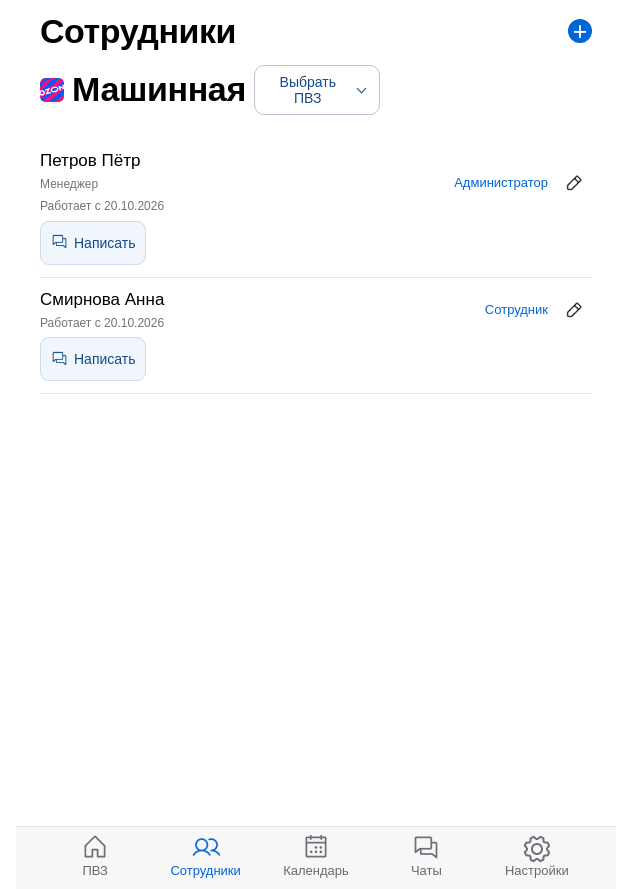
Scenario: редактирование из /employees?workplace=11 меняет только роль и должность
Click the link named "Редактировать сотрудника Петров Пётр" at (574, 183), box 564,173 -> 584,193
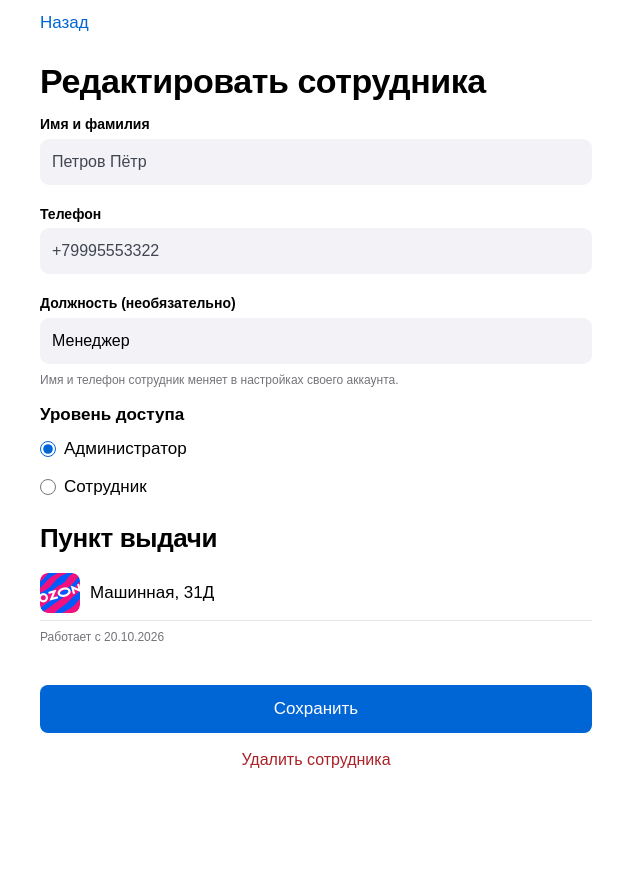
Expected: the field named "Имя и фамилия" reads "Петров Пётр", 52,153 -> 147,170
Expected: the text "Работает с 20.10.2026" is shown, 40,630 -> 164,644
Clear the field labelled "Должность (необязательно)" at (316, 341), box 40,318 -> 592,364
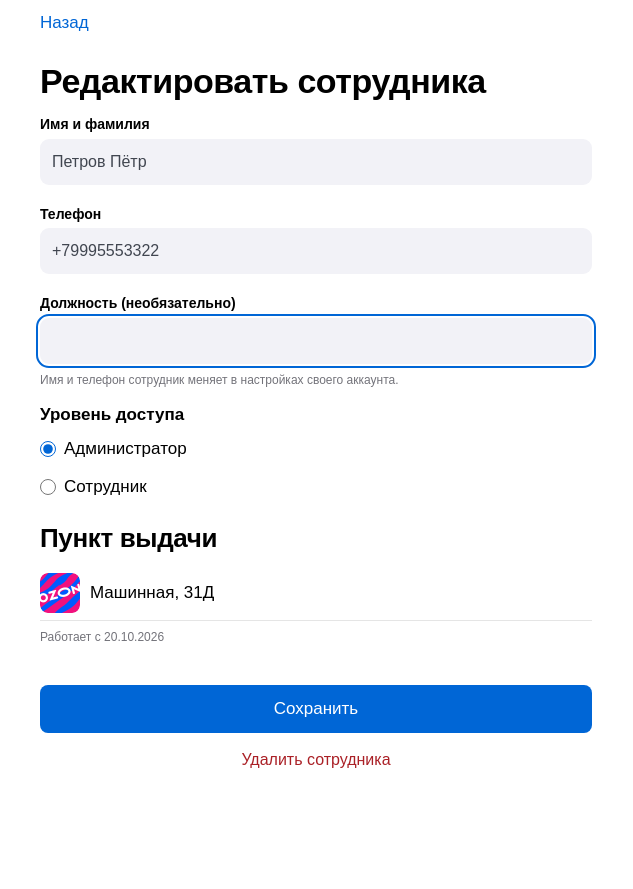
Click the radio button labelled "Сотрудник" at (48, 487), box 40,479 -> 56,495
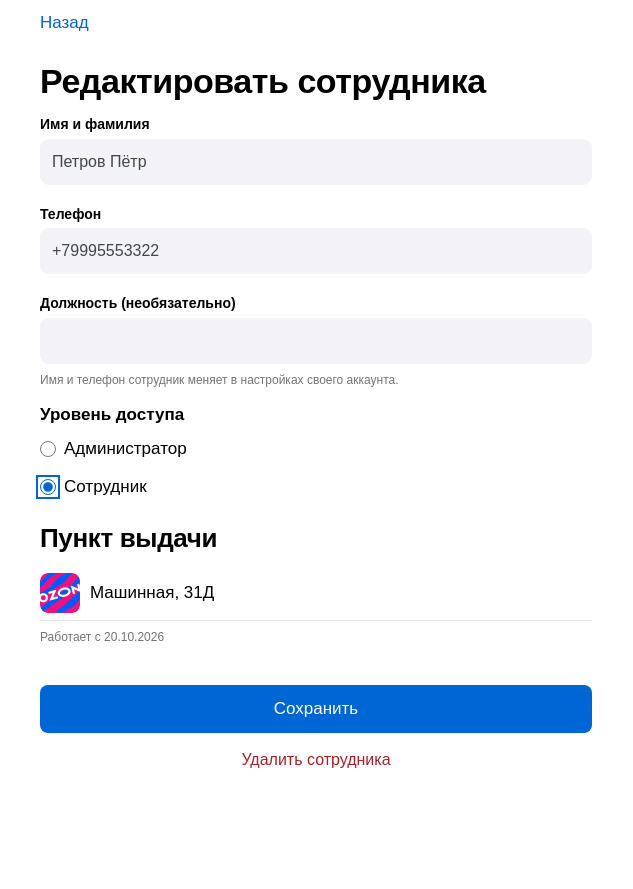
Click the button "Сохранить" at (316, 710), box 40,686 -> 592,734
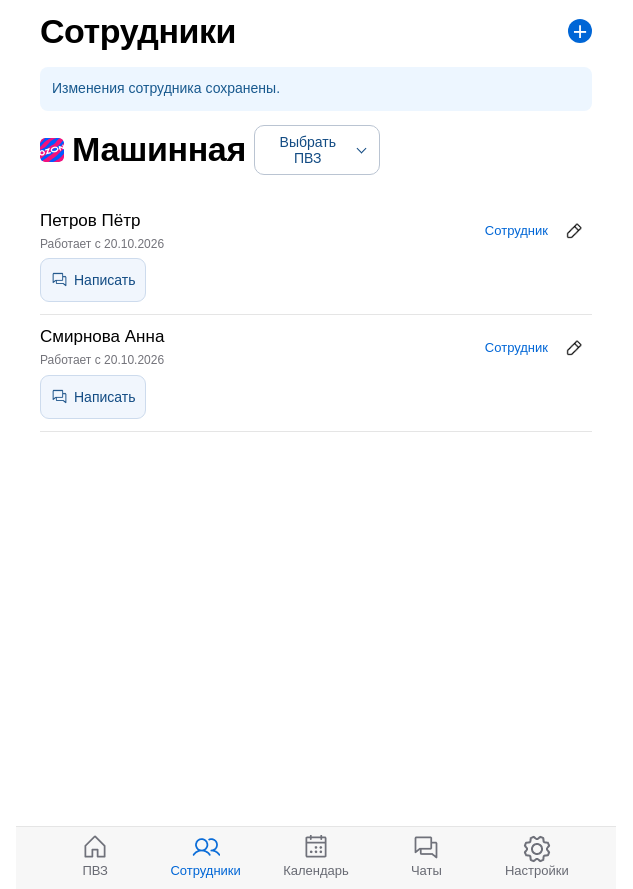
Expected: the text "Петров Пётр" is shown, 40,211 -> 140,230
Expected: the text "Изменения сотрудника сохранены." is shown, 40,67 -> 592,111
